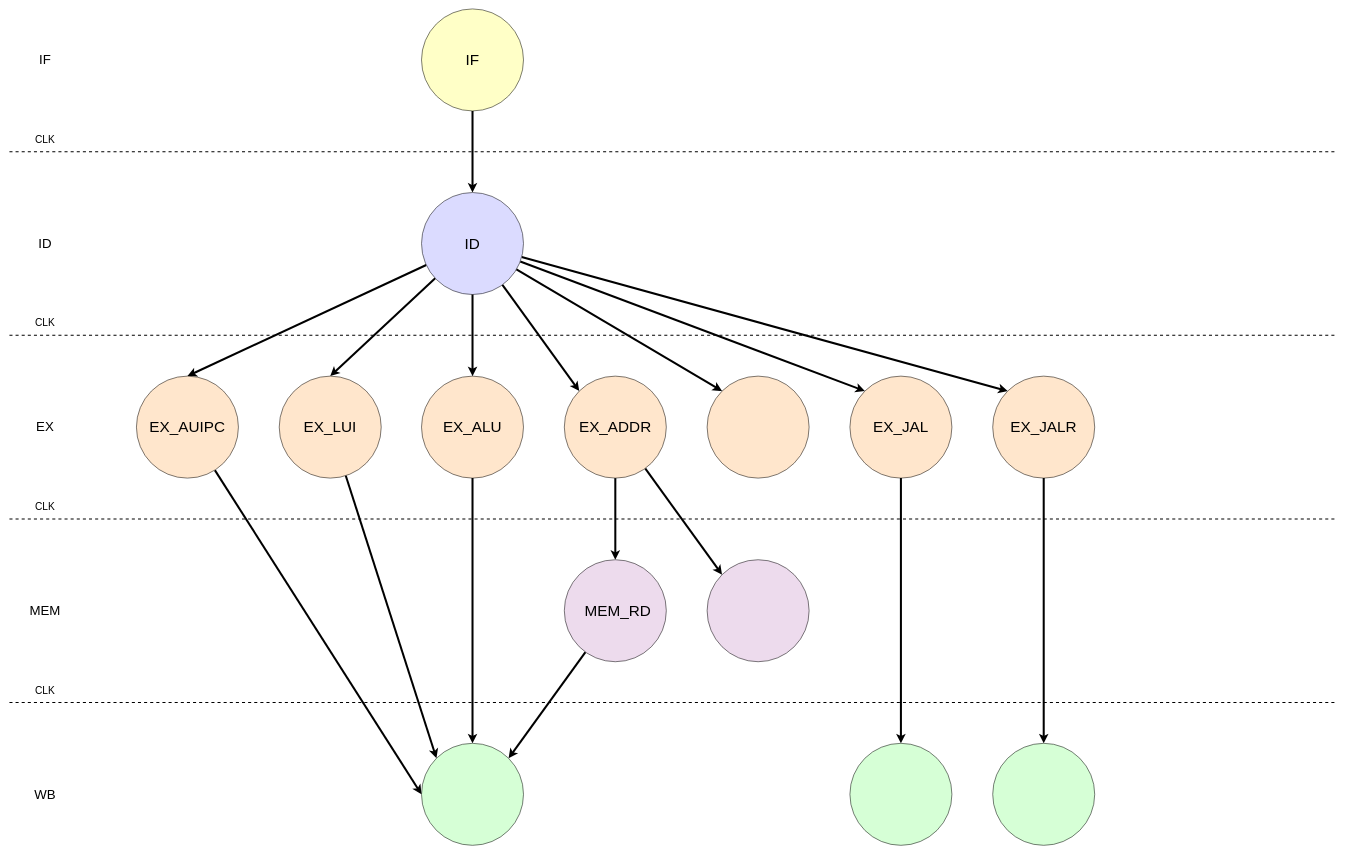
The diagram is 1345 pixels wide and 854 high, and some of its shapes have lost their labels. Each missing label, with the box of its shape:
EX_BR: (707, 376, 809, 478)
MEM_WR: (707, 559, 809, 662)
WB_JAL: (849, 743, 952, 845)
WB_JALR: (992, 743, 1095, 845)
WB_REG: (421, 743, 524, 845)
